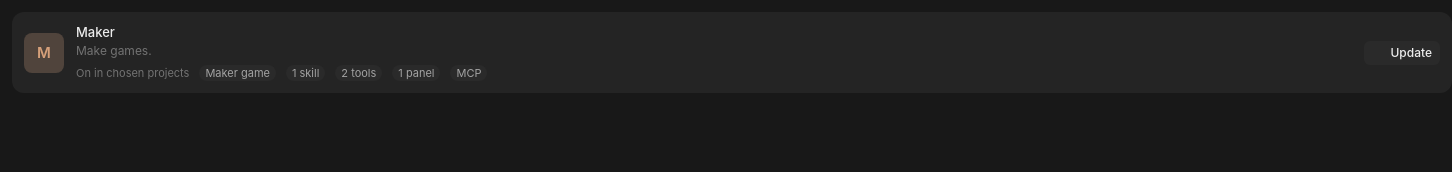
Test case: offers an in-place Update button on cards with available updates and shows its busy state
The width and height of the screenshot is (1452, 172).
Later steps or results of the test are not shown.
Step 1. Click the button with aria-label "Update Maker" → (1402, 53), box [1364,41,1440,65]
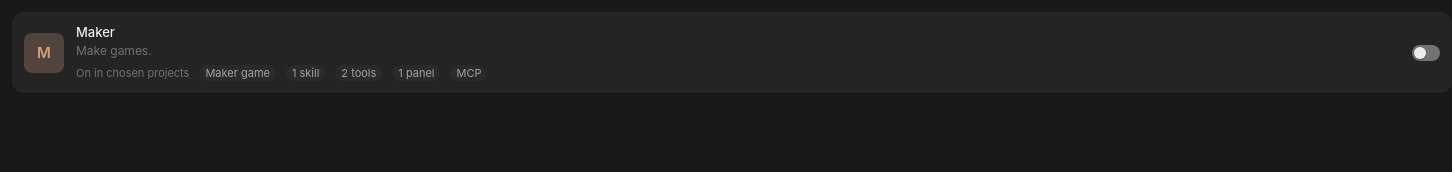
Expected: the switch named "Turn Maker on in every project" is shown, [1412,45,1440,61]
